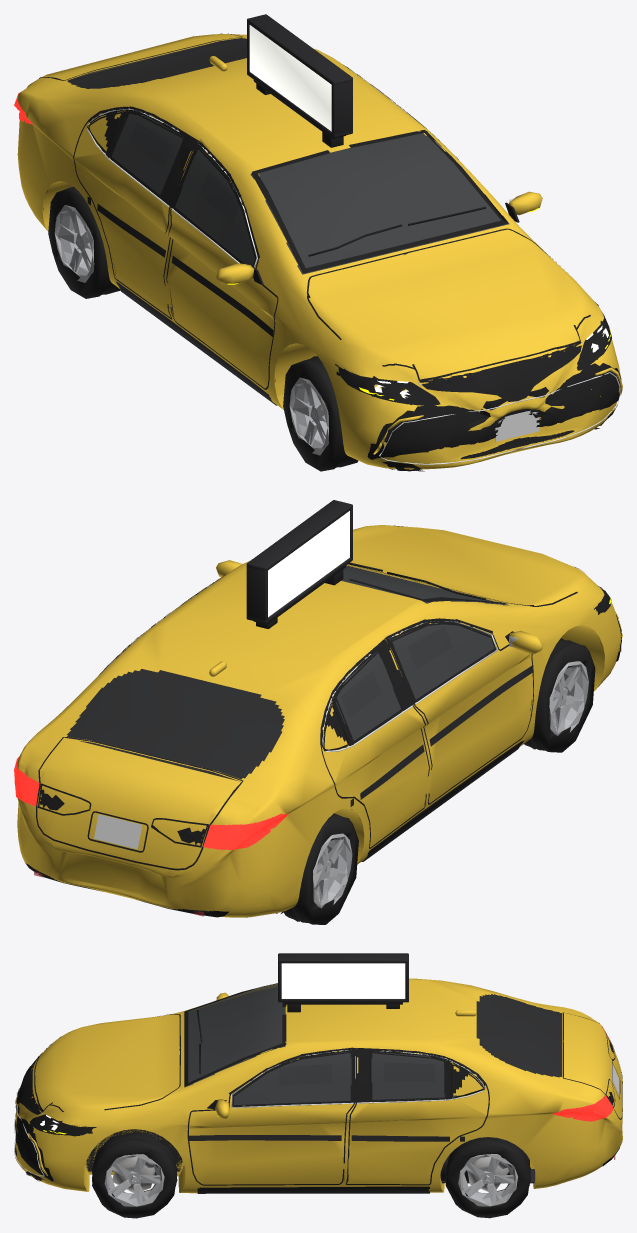
File: taxiAdBoard-lod1.glb
The picture shows the model from 3 angles, top to bottom: view 1: azimuth 30°, elevation 25°; view 2: azimuth 150°, elevation 25°; view 3: azimuth 270°, elevation 25°; orthographic projection. The views are drawn at different scales.
Parts seen in each view (by area): view 1: Body, HoodSkin, Body_Lining, Body_Trim, Panel_FR, Panel_RR, Window_FR, TaxiSign, Window_RR, Wheel_FR_Tyre, Wheel_RR_Tyre, Panel_RR_Trim (+12 smaller); view 2: Body, TrunkSkin, HoodSkin, Panel_FR, Body_Lining, Panel_RR, Body_Trim, Window_FR, TaxiSign, Window_RR, Wheel_FR_Tyre, Wheel_RR_Tyre (+11 smaller); view 3: Body, Body_Lining, HoodSkin, Panel_FL, Panel_RL, Body_Trim, TaxiSign, Window_FL, Wheel_FL_Tyre, TrunkSkin, Wheel_RL_Tyre, Window_RL (+15 smaller).
Boxes of the visible parts, left/top/right/bottom form: Body: left=16, top=34, right=620, bottom=469; HoodSkin: left=308, top=230, right=597, bottom=383; Body_Lining: left=75, top=39, right=508, bottom=316; Body_Trim: left=14, top=89, right=621, bottom=471; Panel_FR: left=168, top=146, right=277, bottom=388; Panel_RR: left=74, top=108, right=190, bottom=317; Window_FR: left=175, top=146, right=257, bottom=267; TaxiSign: left=249, top=25, right=331, bottom=131; Window_RR: left=111, top=113, right=183, bottom=194; Wheel_FR_Tyre: left=283, top=356, right=358, bottom=471; Wheel_RR_Tyre: left=48, top=186, right=120, bottom=298; Panel_RR_Trim: left=73, top=106, right=197, bottom=319; Body: left=14, top=561, right=621, bottom=917; TrunkSkin: left=37, top=738, right=240, bottom=868; HoodSkin: left=350, top=525, right=596, bottom=605; Panel_FR: left=390, top=620, right=533, bottom=802; Body_Lining: left=68, top=567, right=531, bottom=781; Panel_RR: left=321, top=651, right=428, bottom=847; Body_Trim: left=14, top=564, right=621, bottom=917; Window_FR: left=389, top=623, right=494, bottom=700; TaxiSign: left=268, top=511, right=349, bottom=617; Window_RR: left=334, top=652, right=400, bottom=740; Wheel_FR_Tyre: left=524, top=638, right=595, bottom=752; Wheel_RR_Tyre: left=284, top=813, right=358, bottom=924; Body: left=15, top=978, right=622, bottom=1193; Body_Lining: left=185, top=987, right=561, bottom=1104; HoodSkin: left=32, top=1015, right=178, bottom=1118; Panel_FL: left=190, top=1049, right=351, bottom=1184; Panel_RL: left=348, top=1050, right=487, bottom=1184; Body_Trim: left=15, top=983, right=619, bottom=1193; TaxiSign: left=281, top=963, right=405, bottom=998; Window_FL: left=234, top=1050, right=351, bottom=1106; Wheel_FL_Tyre: left=92, top=1132, right=177, bottom=1218; TrunkSkin: left=564, top=1013, right=622, bottom=1118; Wheel_RL_Tyre: left=445, top=1137, right=530, bottom=1218; Window_RL: left=371, top=1052, right=445, bottom=1101.
Bounding box in the file's own units: 2.29 × 1.93 × 4.93.
